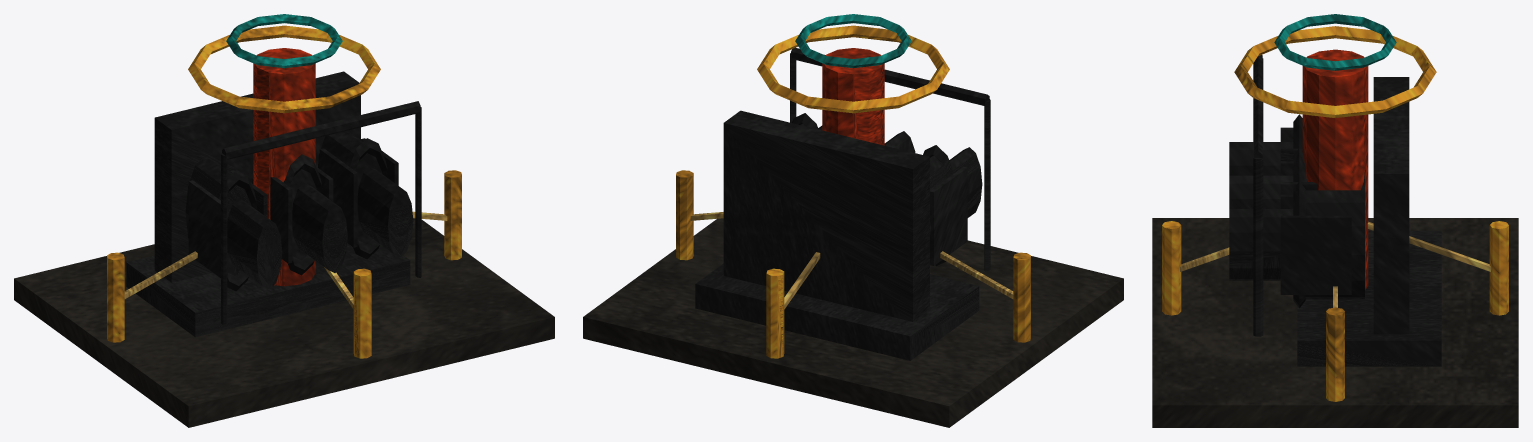
Rendered from last-warm-vent-altar.glb.
The picture shows the model from 3 angles, left to right: view 1: azimuth 30°, elevation 25°; view 2: azimuth 150°, elevation 25°; view 3: azimuth 270°, elevation 25°; orthographic projection. The views are drawn at different scales.
Visible parts, largest first — view 1: last-warm-vent-altar; view 2: last-warm-vent-altar; view 3: last-warm-vent-altar.
Part boxes in pixels (x1,y1,x2,y2): last-warm-vent-altar: (14,14,554,427); last-warm-vent-altar: (583,14,1123,427); last-warm-vent-altar: (1152,14,1518,427).
Size of the model in its own units: 4.6 by 3.39 by 3.8.
Materials: 1 (1 with a texture image).
